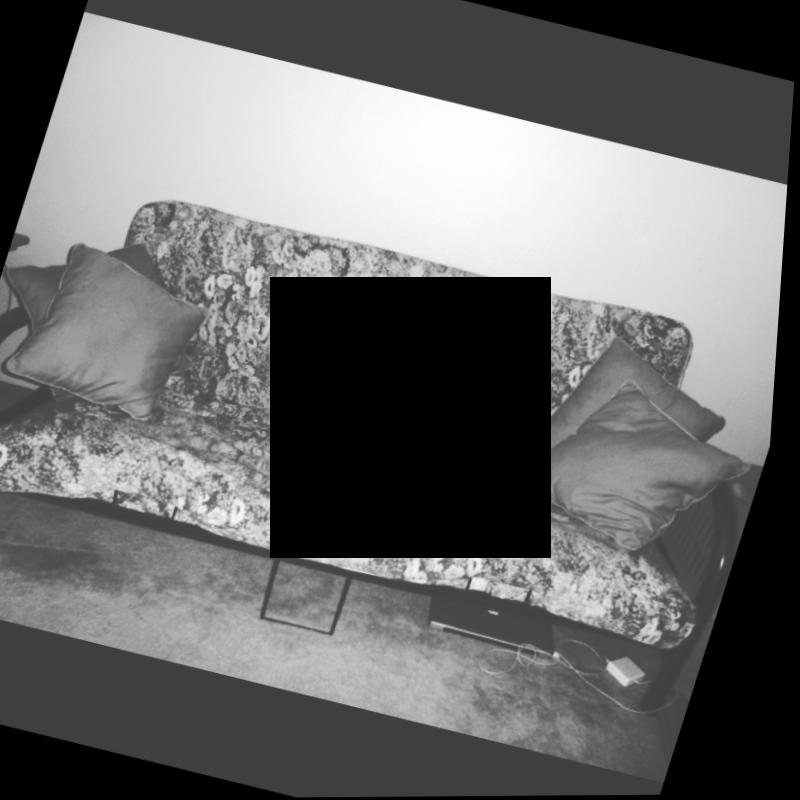pillow: (0, 198, 252, 441), (522, 359, 768, 574), (0, 234, 226, 426), (521, 322, 758, 495)
